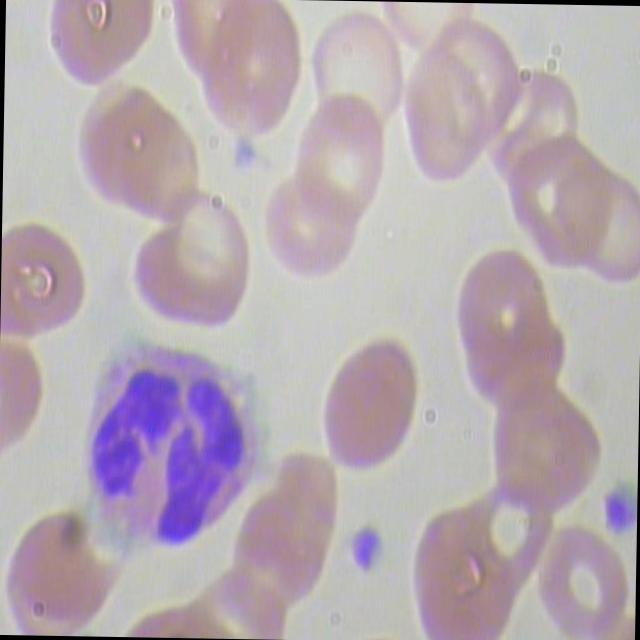Platelets: (342, 517, 384, 580), (603, 482, 637, 548)
RBC: (72, 77, 216, 238), (305, 326, 435, 476), (483, 384, 609, 516), (302, 10, 410, 162), (286, 84, 394, 234), (2, 506, 124, 636), (199, 0, 306, 145), (394, 48, 500, 190), (226, 485, 331, 627), (507, 142, 612, 284), (132, 223, 252, 339), (454, 245, 555, 377), (537, 517, 635, 640), (262, 182, 360, 298), (45, 0, 160, 94)
WBC: (73, 328, 276, 555)
